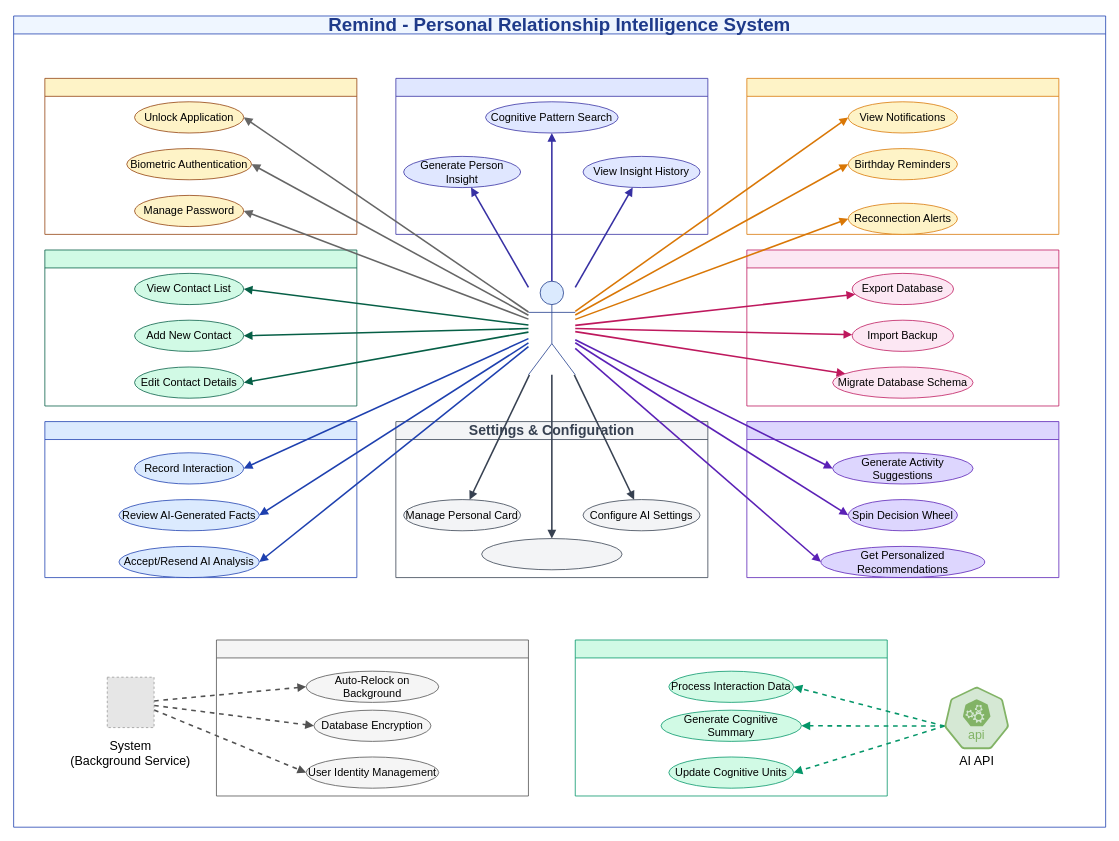
The diagram is 1119 pixels wide and 841 high, and some of its shapes have lost their labels. Grey dashed boxes stand in for pictures. The shapes that lost their labels are listed below. From the top down, each one's box as (x1, y1, x2, y2) in pixels, then its label:
(44, 78, 357, 234): Security & Authentication
(395, 78, 708, 234): Cognitive Intelligence
(746, 78, 1059, 234): Notifications & Reminders
(44, 249, 357, 406): Contact Management
(528, 280, 575, 375): User (Relationship Manager)
(746, 249, 1059, 406): Data Management
(44, 421, 357, 578): Interaction Management
(746, 421, 1059, 578): Roulette Decision Maker
(481, 538, 622, 570): Manage Data (Export/Import)
(216, 639, 528, 796): Background Services
(574, 639, 887, 796): AI Processing
